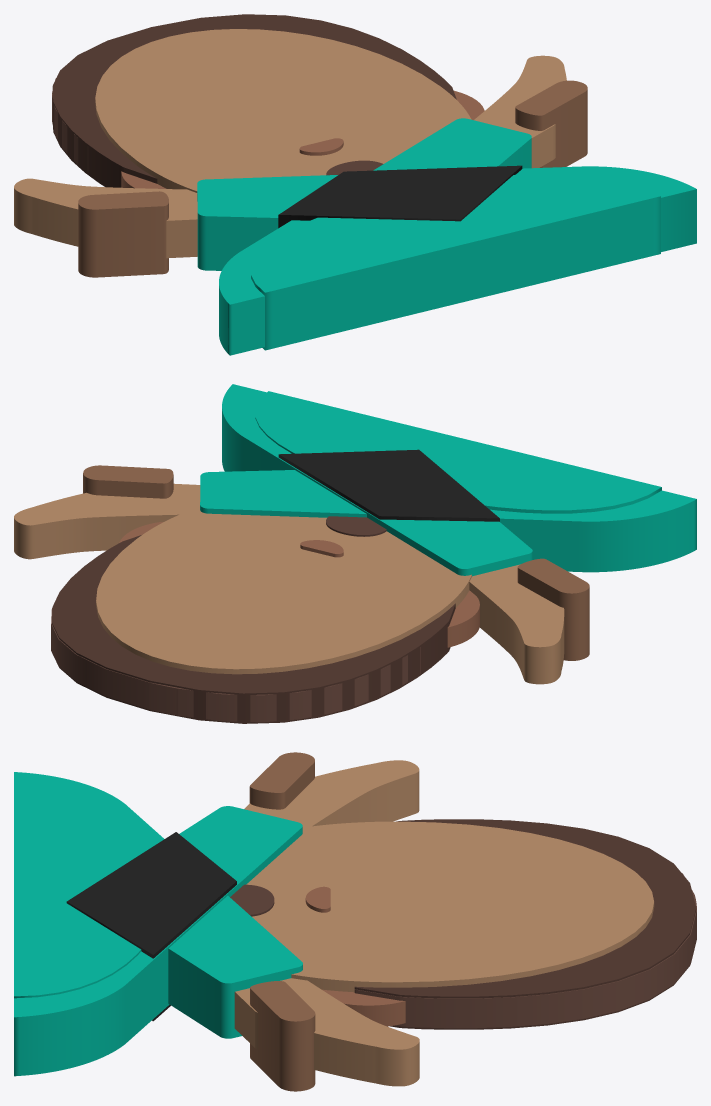
File: emoji_u1f645_1f3fd_200d_2642.glb
3 renders of one model, top to bottom at view 1: azimuth 30°, elevation 25°; view 2: azimuth 150°, elevation 25°; view 3: azimuth 270°, elevation 25°, orthographic. The views are drawn at different scales.
Visible parts, largest first — view 1: emoji_u1f645_1f3fd_200d_2642; view 2: emoji_u1f645_1f3fd_200d_2642; view 3: emoji_u1f645_1f3fd_200d_2642.
Part boxes in pixels (x1=…): emoji_u1f645_1f3fd_200d_2642: x1=14, y1=14, x2=696, y2=355; emoji_u1f645_1f3fd_200d_2642: x1=14, y1=384, x2=696, y2=723; emoji_u1f645_1f3fd_200d_2642: x1=14, y1=752, x2=696, y2=1091.
Bounding box in the file's own units: 0.0335 × 0.004 × 0.0336.
